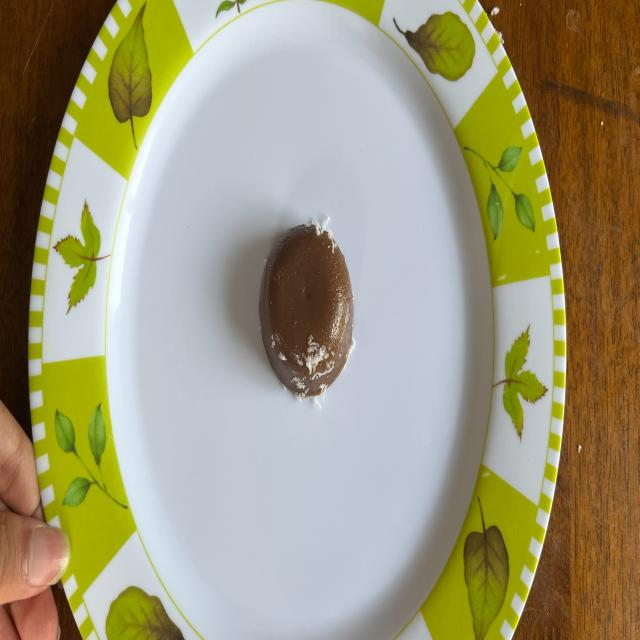Kuih lompang: (259, 220, 354, 398)
